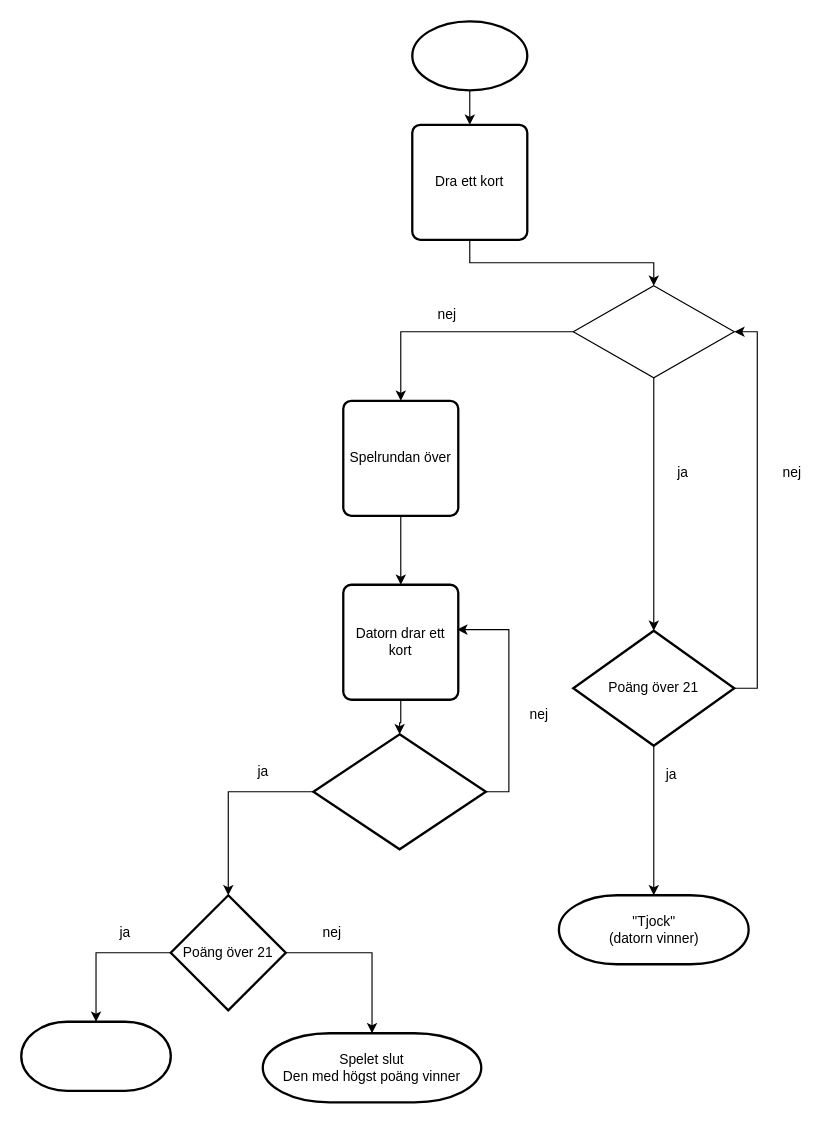
The diagram is 834 pixels wide and 1122 high, and some of its shapes have lost their labels. Here are the shapes that lost their labels. From the top down, the box of each, then its label:
(411, 20, 528, 91): Starta spelet
(572, 285, 734, 378): Dra ytterligare kort
(312, 733, 486, 850): Poäng 17 eller högre
(20, 1020, 171, 1091): "Tjock" (spelaren vinner)
